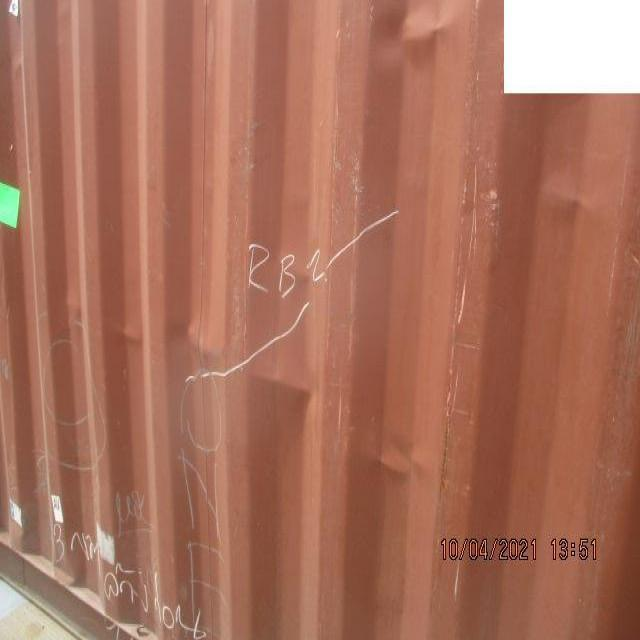Dent: (94, 299, 493, 495)
Minor-Dent: (362, 1, 481, 83)
